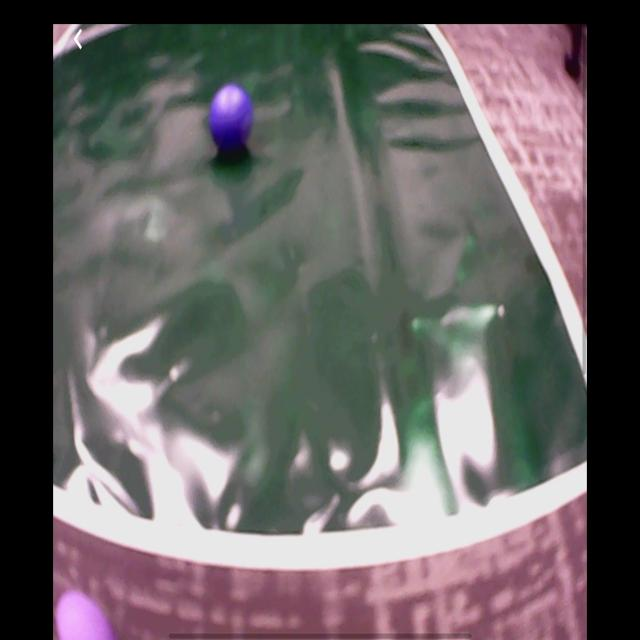ball: (210, 84, 255, 154), (57, 591, 115, 640)
